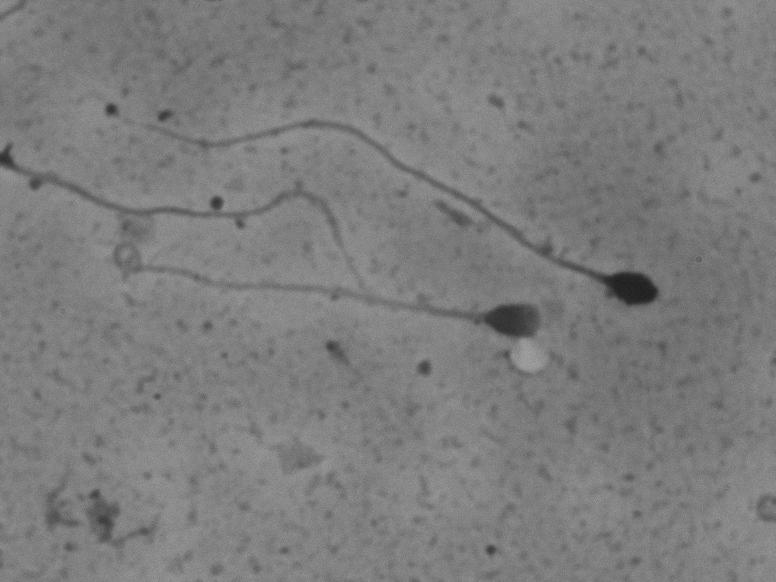Abnormal: (98, 244, 550, 347)
Normal: (78, 82, 679, 318)
